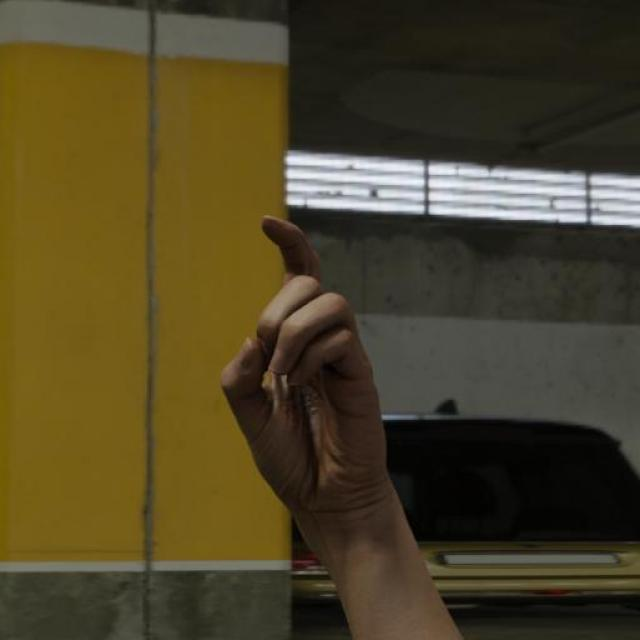X: (217, 209, 396, 521)
